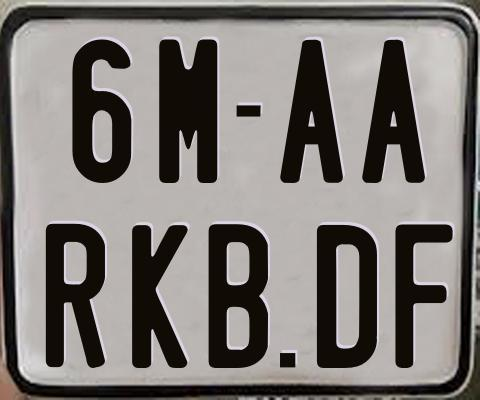6: (71, 39, 135, 189)
A: (278, 40, 347, 187), (362, 40, 430, 189)
B: (208, 222, 268, 368)
D: (316, 224, 377, 372)
F: (395, 224, 459, 373)
K: (132, 222, 194, 365)
M: (156, 36, 217, 181)
R: (45, 224, 107, 368)
